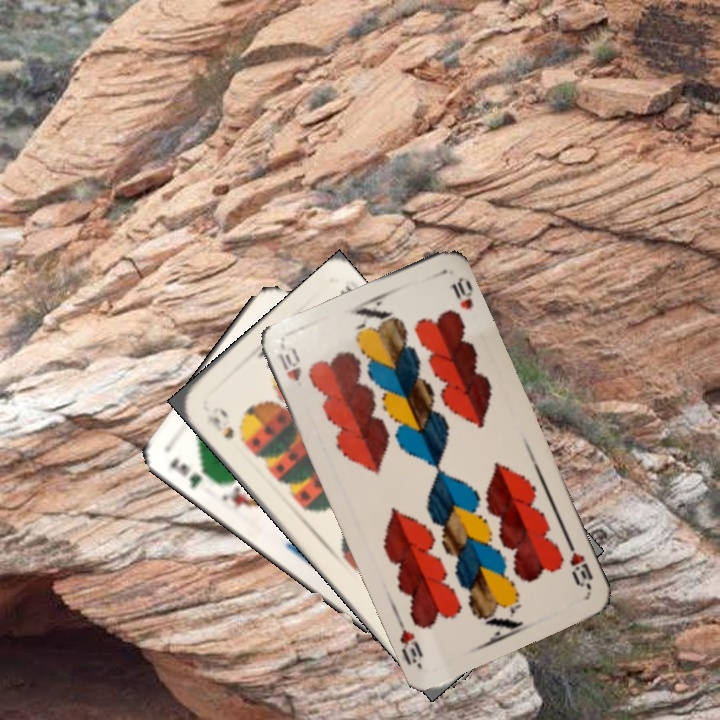GK: (166, 454, 205, 492)
H10: (563, 536, 596, 592), (274, 344, 304, 384)
S10: (202, 410, 237, 442)
